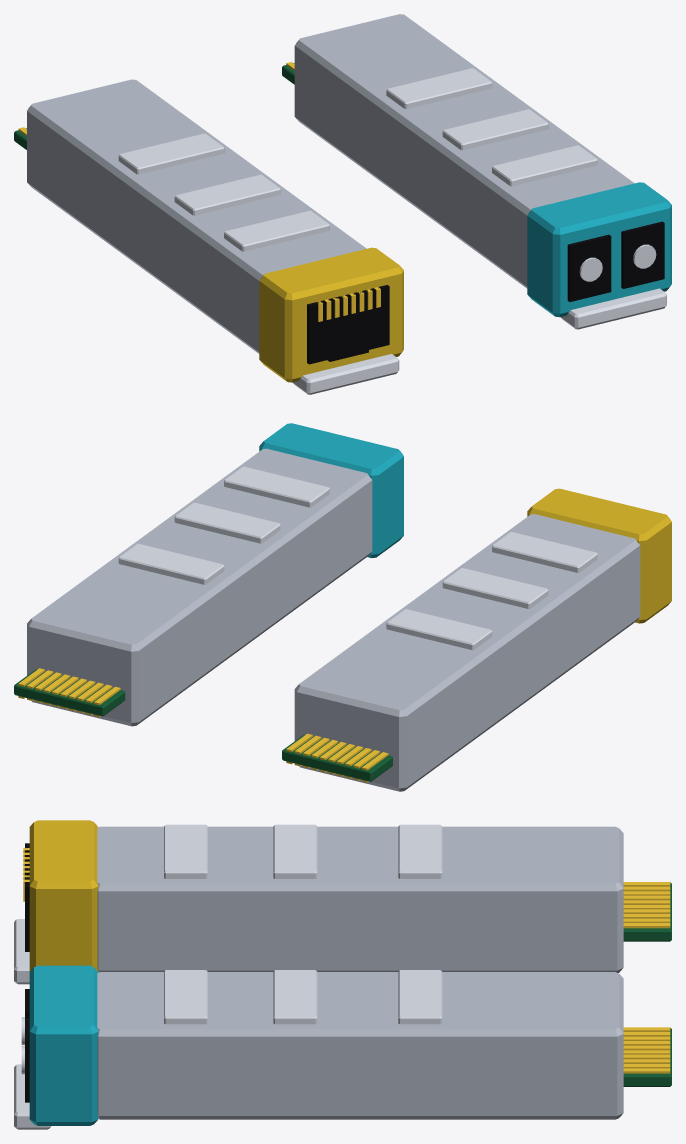
The model's file is dc_sfp_transceiver.obj.
3 renders of one model, top to bottom at view 1: azimuth 30°, elevation 25°; view 2: azimuth 150°, elevation 25°; view 3: azimuth 270°, elevation 25°, orthographic. The views are drawn at different scales.
Visible parts, largest first — view 1: SFP_Fiber_25Gbps_Module_SFP_DieCast_Nickel, SFP_RJ45_10Gbps_Module_SFP_DieCast_Nickel, SFP_Fiber_25Gbps_Module_SFP_25G_Aqua_Bezel, SFP_RJ45_10Gbps_Module_SFP_10G_Yellow_Bezel, SFP_Fiber_25Gbps_Module_SFP_Spring_Steel, SFP_RJ45_10Gbps_Module_SFP_Spring_Steel, SFP_RJ45_10Gbps_Module_SFP_Port_Cavity, SFP_Fiber_25Gbps_Module_SFP_Port_Cavity, SFP_RJ45_10Gbps_Module_SFP_Gold_Fingers; view 2: SFP_RJ45_10Gbps_Module_SFP_DieCast_Nickel, SFP_Fiber_25Gbps_Module_SFP_DieCast_Nickel, SFP_Fiber_25Gbps_Module_SFP_Spring_Steel, SFP_RJ45_10Gbps_Module_SFP_Spring_Steel, SFP_Fiber_25Gbps_Module_SFP_25G_Aqua_Bezel, SFP_RJ45_10Gbps_Module_SFP_10G_Yellow_Bezel, SFP_Fiber_25Gbps_Module_SFP_Gold_Fingers, SFP_RJ45_10Gbps_Module_SFP_Gold_Fingers, SFP_Fiber_25Gbps_Module_SFP_Edge_PCB, SFP_RJ45_10Gbps_Module_SFP_Edge_PCB; view 3: SFP_Fiber_25Gbps_Module_SFP_DieCast_Nickel, SFP_RJ45_10Gbps_Module_SFP_DieCast_Nickel, SFP_Fiber_25Gbps_Module_SFP_25G_Aqua_Bezel, SFP_RJ45_10Gbps_Module_SFP_10G_Yellow_Bezel, SFP_Fiber_25Gbps_Module_SFP_Spring_Steel, SFP_RJ45_10Gbps_Module_SFP_Spring_Steel, SFP_RJ45_10Gbps_Module_SFP_Gold_Fingers, SFP_Fiber_25Gbps_Module_SFP_Gold_Fingers, SFP_RJ45_10Gbps_Module_SFP_Edge_PCB, SFP_Fiber_25Gbps_Module_SFP_Edge_PCB, SFP_Fiber_25Gbps_Module_SFP_Port_Cavity, SFP_RJ45_10Gbps_Module_SFP_Port_Cavity.
Boxes of the visible parts, <box> form: SFP_Fiber_25Gbps_Module_SFP_DieCast_Nickel: <box>294,14,634,288</box>; SFP_RJ45_10Gbps_Module_SFP_DieCast_Nickel: <box>27,79,366,353</box>; SFP_Fiber_25Gbps_Module_SFP_25G_Aqua_Bezel: <box>527,182,671,317</box>; SFP_RJ45_10Gbps_Module_SFP_10G_Yellow_Bezel: <box>259,247,403,382</box>; SFP_Fiber_25Gbps_Module_SFP_Spring_Steel: <box>386,68,666,329</box>; SFP_RJ45_10Gbps_Module_SFP_Spring_Steel: <box>118,133,399,394</box>; SFP_RJ45_10Gbps_Module_SFP_Port_Cavity: <box>307,285,389,364</box>; SFP_Fiber_25Gbps_Module_SFP_Port_Cavity: <box>567,221,664,301</box>; SFP_RJ45_10Gbps_Module_SFP_Gold_Fingers: <box>18,127,380,321</box>; SFP_RJ45_10Gbps_Module_SFP_DieCast_Nickel: <box>294,514,640,791</box>; SFP_Fiber_25Gbps_Module_SFP_DieCast_Nickel: <box>27,448,372,726</box>; SFP_Fiber_25Gbps_Module_SFP_Spring_Steel: <box>118,466,329,584</box>; SFP_RJ45_10Gbps_Module_SFP_Spring_Steel: <box>386,532,597,650</box>; SFP_Fiber_25Gbps_Module_SFP_25G_Aqua_Bezel: <box>259,423,403,558</box>; SFP_RJ45_10Gbps_Module_SFP_10G_Yellow_Bezel: <box>527,488,671,623</box>; SFP_Fiber_25Gbps_Module_SFP_Gold_Fingers: <box>18,668,120,717</box>; SFP_RJ45_10Gbps_Module_SFP_Gold_Fingers: <box>286,733,388,782</box>; SFP_Fiber_25Gbps_Module_SFP_Edge_PCB: <box>14,669,125,716</box>; SFP_RJ45_10Gbps_Module_SFP_Edge_PCB: <box>282,734,392,781</box>; SFP_Fiber_25Gbps_Module_SFP_DieCast_Nickel: <box>97,972,623,1119</box>; SFP_RJ45_10Gbps_Module_SFP_DieCast_Nickel: <box>97,826,623,972</box>; SFP_Fiber_25Gbps_Module_SFP_25G_Aqua_Bezel: <box>29,965,98,1125</box>; SFP_RJ45_10Gbps_Module_SFP_10G_Yellow_Bezel: <box>29,820,98,971</box>; SFP_Fiber_25Gbps_Module_SFP_Spring_Steel: <box>14,970,442,1129</box>; SFP_RJ45_10Gbps_Module_SFP_Spring_Steel: <box>14,824,442,984</box>; SFP_RJ45_10Gbps_Module_SFP_Gold_Fingers: <box>23,848,670,928</box>; SFP_Fiber_25Gbps_Module_SFP_Gold_Fingers: <box>623,1027,670,1073</box>; SFP_RJ45_10Gbps_Module_SFP_Edge_PCB: <box>623,882,671,941</box>; SFP_Fiber_25Gbps_Module_SFP_Edge_PCB: <box>623,1028,671,1086</box>; SFP_Fiber_25Gbps_Module_SFP_Port_Cavity: <box>25,989,29,1102</box>; SFP_RJ45_10Gbps_Module_SFP_Port_Cavity: <box>25,843,29,951</box>.
Bounding box in the file's own units: 0.318 × 0.079 × 0.421.
